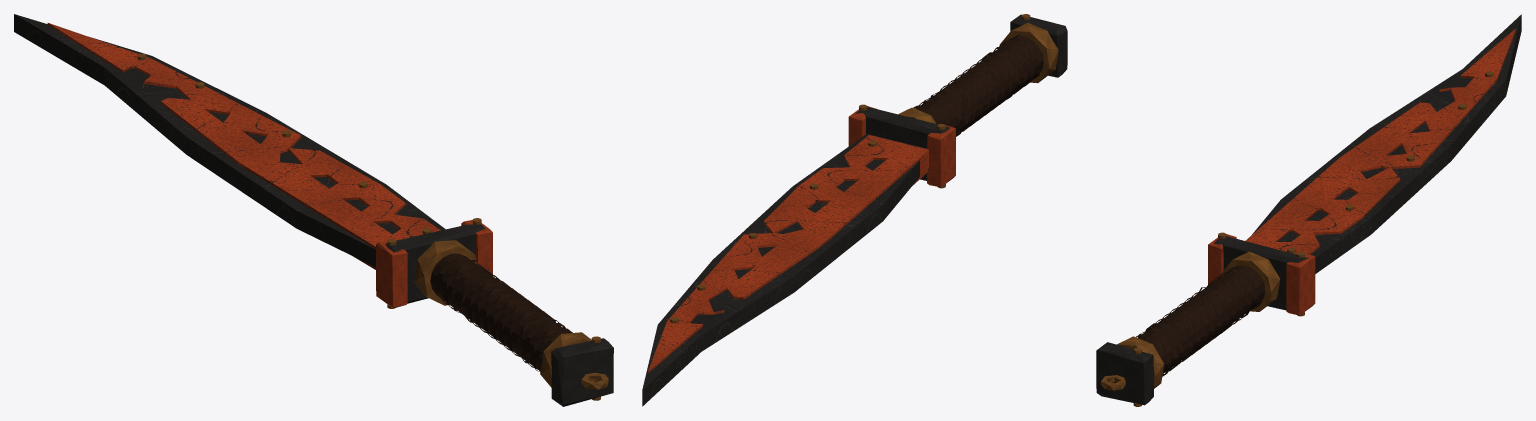
File: kiln-sword-damaged-lod1.glb
3 views of the same model, side by side, from view 1: azimuth 30°, elevation 25°; view 2: azimuth 150°, elevation 25°; view 3: azimuth 330°, elevation 25° (orthographic). The views are drawn at different scales.
Parts seen in each view (by area): view 1: Vented fired ceramic blade jacket, Forged wedge blade, Grip core, Pommel iron cap, Guard iron block, Ceramic guard cheek, Brass grip ferrule.001, Brass grip ferrule, Ceramic guard cheek.001; view 2: Vented fired ceramic blade jacket, Forged wedge blade, Grip core, Guard iron block, Ceramic guard cheek, Brass grip ferrule, Pommel iron cap, Ceramic guard cheek.001; view 3: Vented fired ceramic blade jacket, Forged wedge blade, Grip core, Pommel iron cap, Guard iron block, Ceramic guard cheek.001, Brass grip ferrule.001, Brass grip ferrule, Ceramic guard cheek.
Boxes of the visible parts, bbox=[...] form: Vented fired ceramic blade jacket: bbox=[47, 23, 440, 269]; Forged wedge blade: bbox=[14, 14, 445, 267]; Grip core: bbox=[430, 253, 569, 371]; Pommel iron cap: bbox=[551, 338, 613, 406]; Guard iron block: bbox=[385, 224, 484, 303]; Ceramic guard cheek: bbox=[376, 241, 407, 308]; Brass grip ferrule.001: bbox=[414, 240, 477, 305]; Brass grip ferrule: bbox=[540, 332, 591, 387]; Ceramic guard cheek.001: bbox=[461, 220, 492, 274]; Vented fired ceramic blade jacket: bbox=[648, 135, 928, 373]; Forged wedge blade: bbox=[642, 133, 926, 406]; Grip core: bbox=[916, 37, 1043, 133]; Guard iron block: bbox=[855, 107, 949, 180]; Ceramic guard cheek: bbox=[927, 125, 955, 187]; Brass grip ferrule: bbox=[999, 22, 1058, 83]; Pommel iron cap: bbox=[1010, 14, 1067, 77]; Ceramic guard cheek.001: bbox=[848, 106, 877, 146]; Vented fired ceramic blade jacket: bbox=[1245, 28, 1515, 254]; Forged wedge blade: bbox=[1252, 14, 1521, 273]; Grip core: bbox=[1137, 265, 1265, 373]; Pommel iron cap: bbox=[1096, 342, 1153, 405]; Guard iron block: bbox=[1213, 236, 1308, 310]; Ceramic guard cheek.001: bbox=[1286, 253, 1315, 315]; Brass grip ferrule.001: bbox=[1221, 251, 1280, 311]; Brass grip ferrule: bbox=[1117, 336, 1164, 388]; Ceramic guard cheek: bbox=[1208, 234, 1236, 284].
Bounding box in the file's own units: 0.1745 × 0.092 × 1.31.
Materials: 4 (4 with a texture image).
